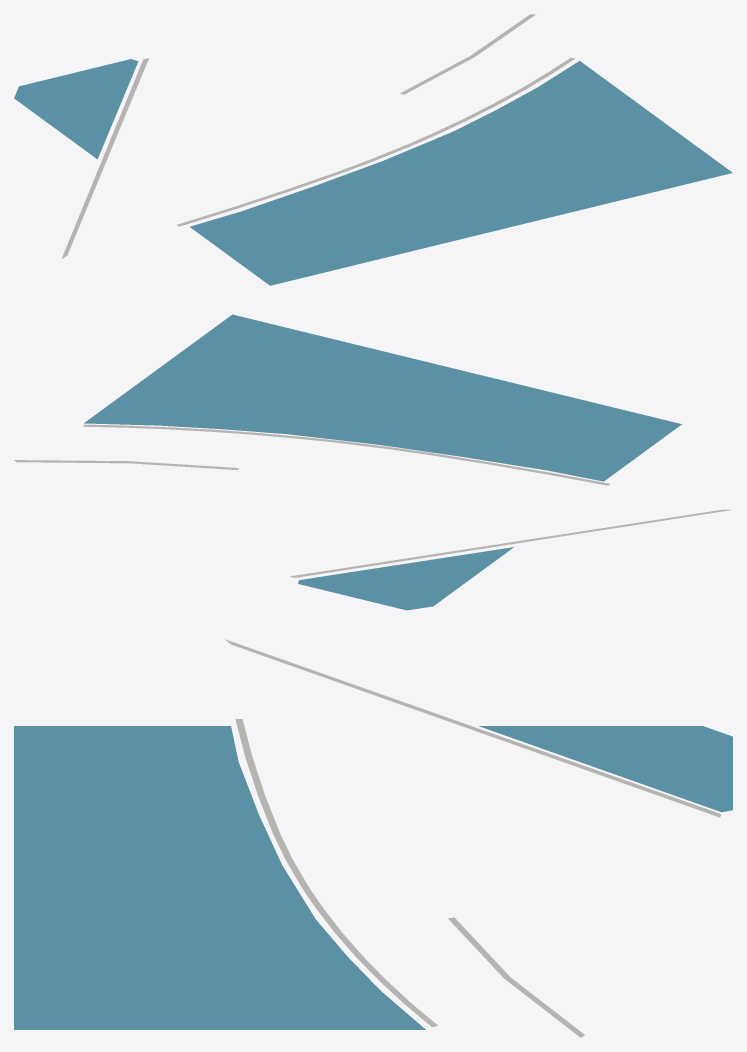
The model's file is tile_-5_7.glb.
3 renders of one model, top to bottom at view 1: azimuth 30°, elevation 25°; view 2: azimuth 150°, elevation 25°; view 3: azimuth 270°, elevation 25°, orthographic. The views are drawn at different scales.
Parts seen in each view (by area): view 1: nature_water, roads_sidewalk; view 2: nature_water, roads_sidewalk; view 3: nature_water, roads_sidewalk.
Part boxes in pixels (bbox=[...]): nature_water: bbox=[14, 59, 732, 285]; roads_sidewalk: bbox=[61, 14, 574, 258]; nature_water: bbox=[84, 314, 681, 610]; roads_sidewalk: bbox=[14, 424, 730, 577]; nature_water: bbox=[14, 726, 732, 1029]; roads_sidewalk: bbox=[225, 639, 720, 1037].
Size of the model in its own units: 328 by 0.5 by 250.
